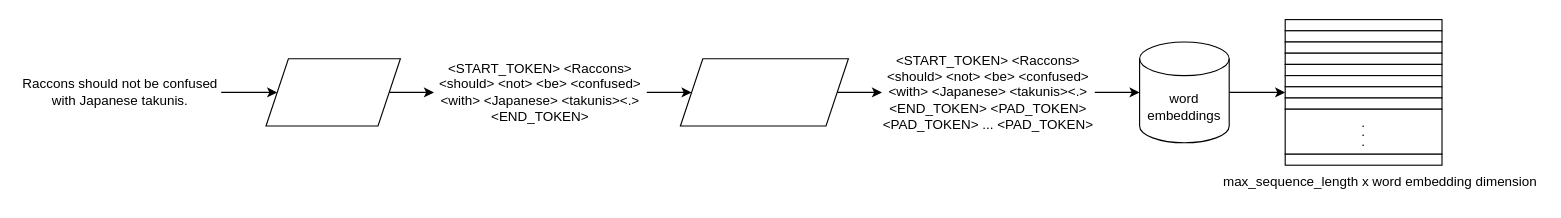
Image size: 1561x218. Some labels were removed from this diagram. Each missing label, with the box of its shape:
padding to max_sequence_length: (679, 58, 848, 126)
tokenizer: (265, 58, 400, 126)
